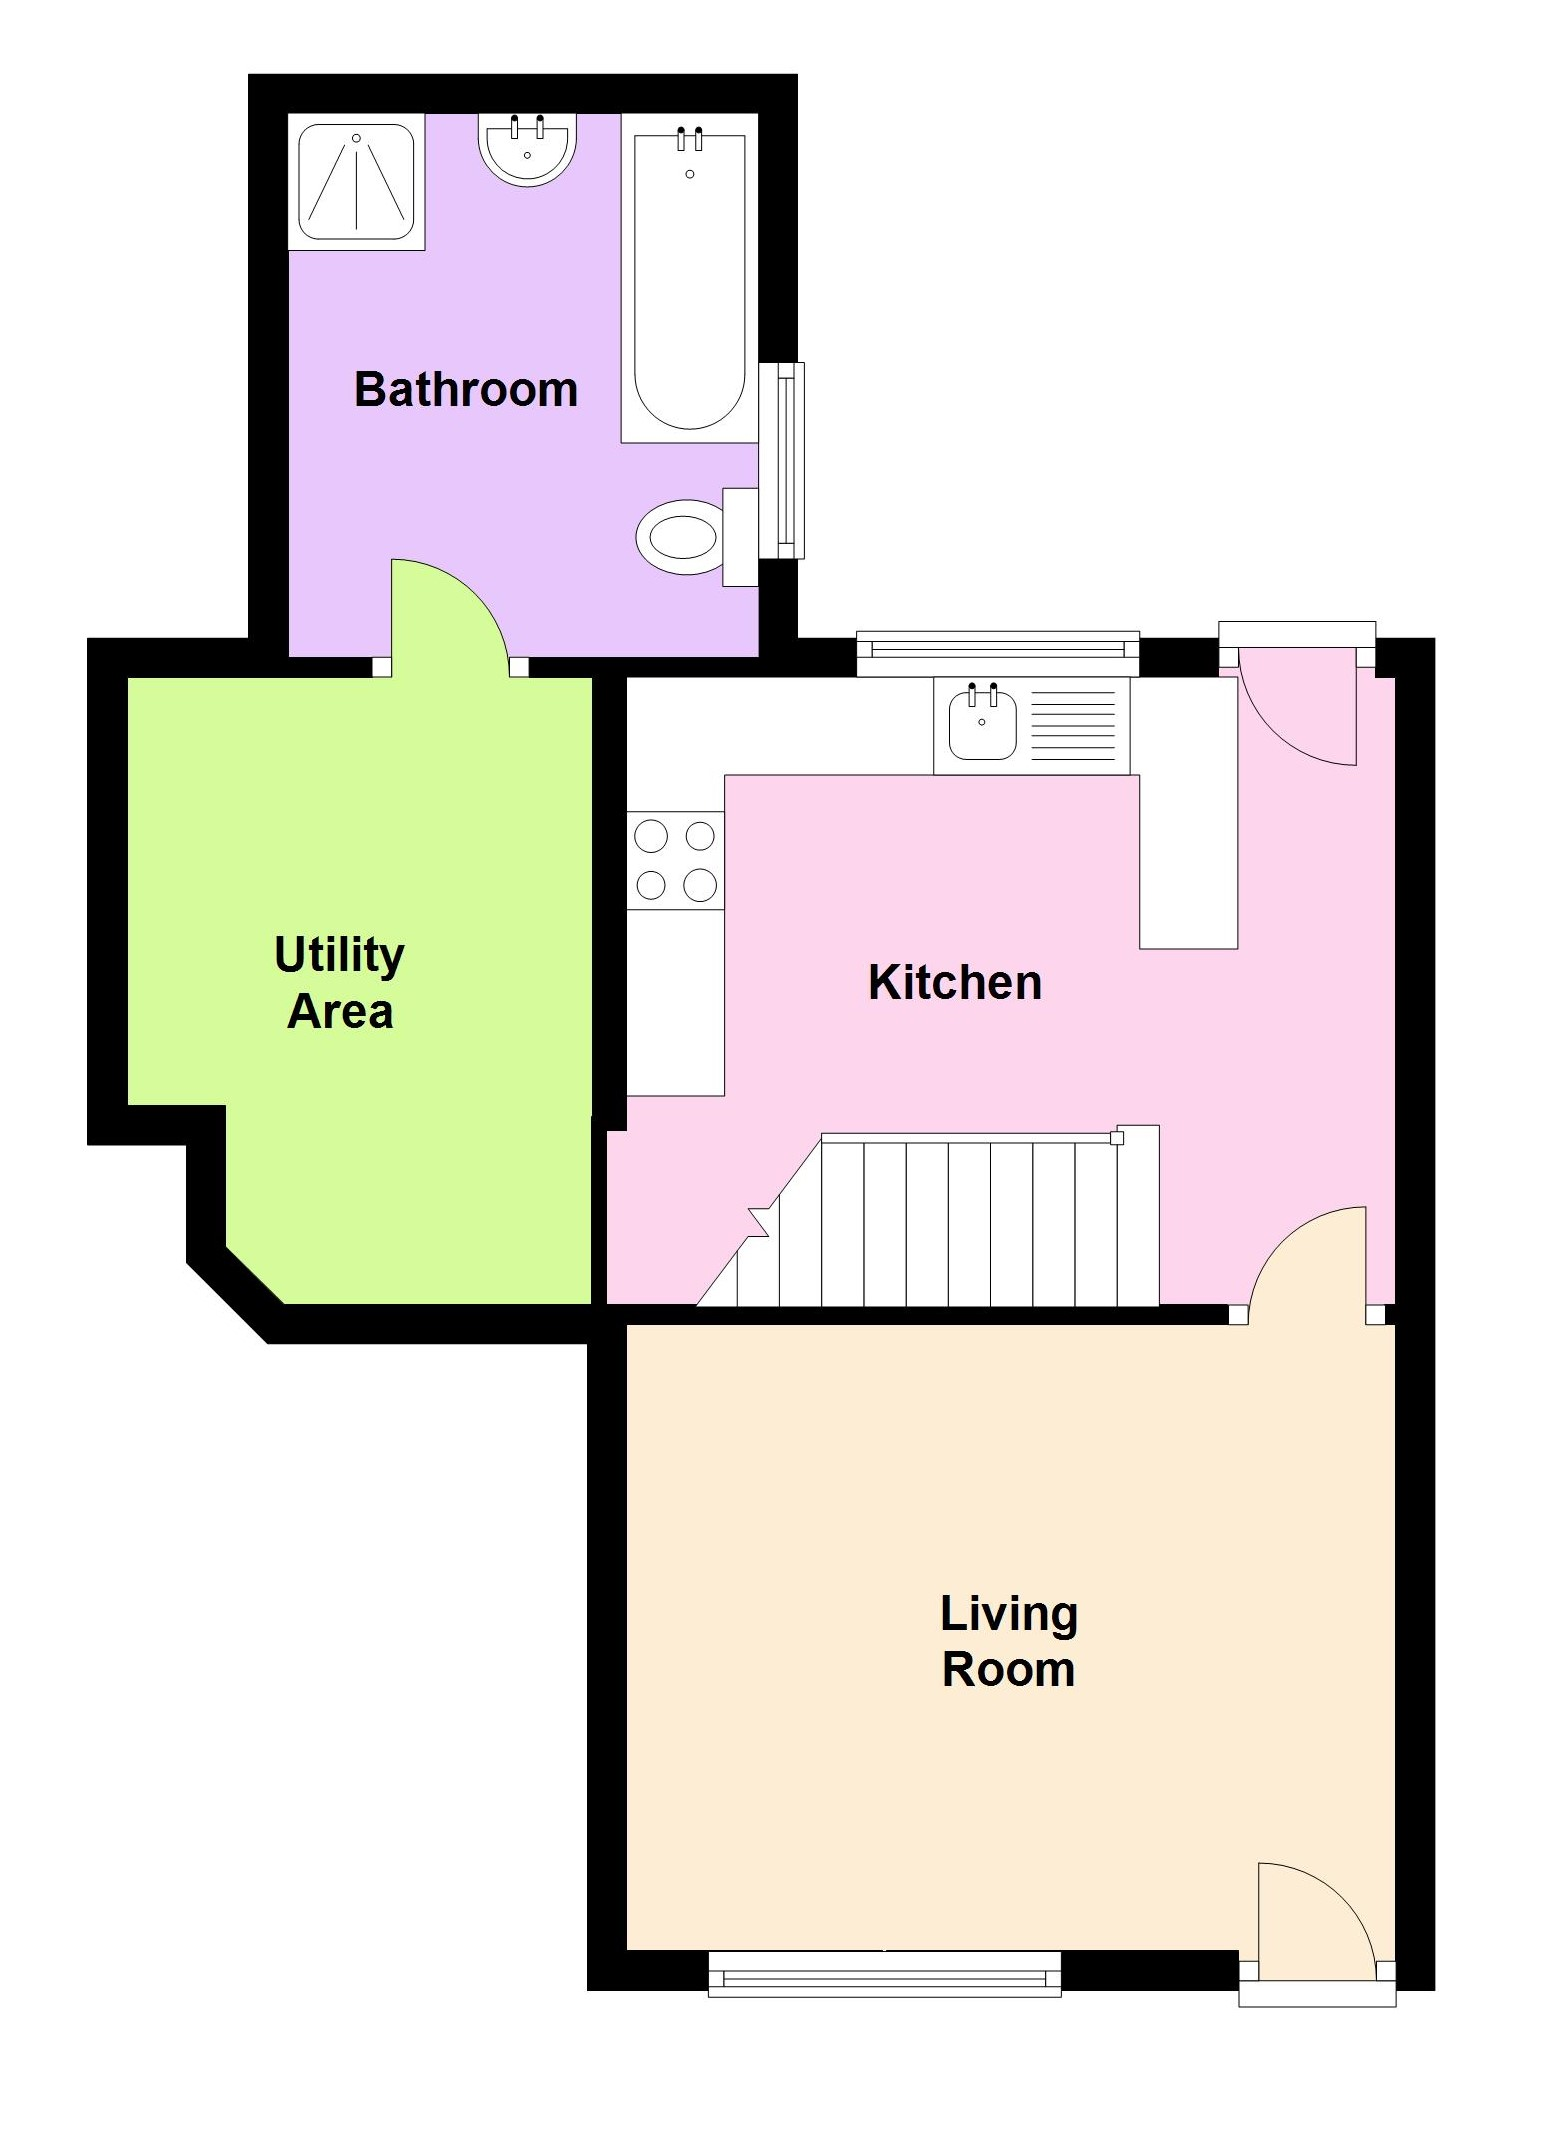wall: (1396, 638, 1437, 1994), (248, 71, 792, 116), (245, 68, 280, 678), (589, 1323, 619, 1984), (589, 661, 622, 1133), (283, 1303, 628, 1344), (757, 78, 802, 365), (609, 1306, 1222, 1326), (1057, 1950, 1239, 1994), (528, 655, 840, 678), (585, 1129, 612, 1310), (594, 1950, 696, 1994), (757, 552, 796, 665), (1138, 642, 1222, 685), (276, 655, 364, 678), (1378, 637, 1431, 675), (1386, 1306, 1403, 1323)
